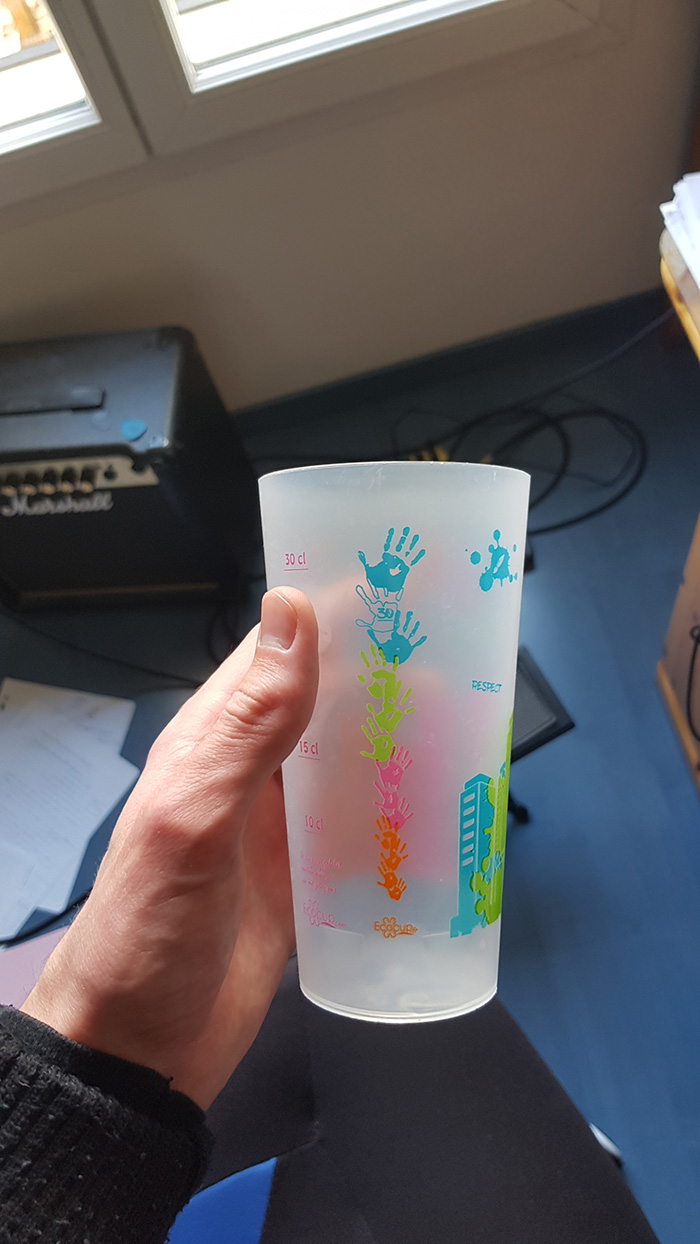ecocup: (257, 461, 532, 1021)
